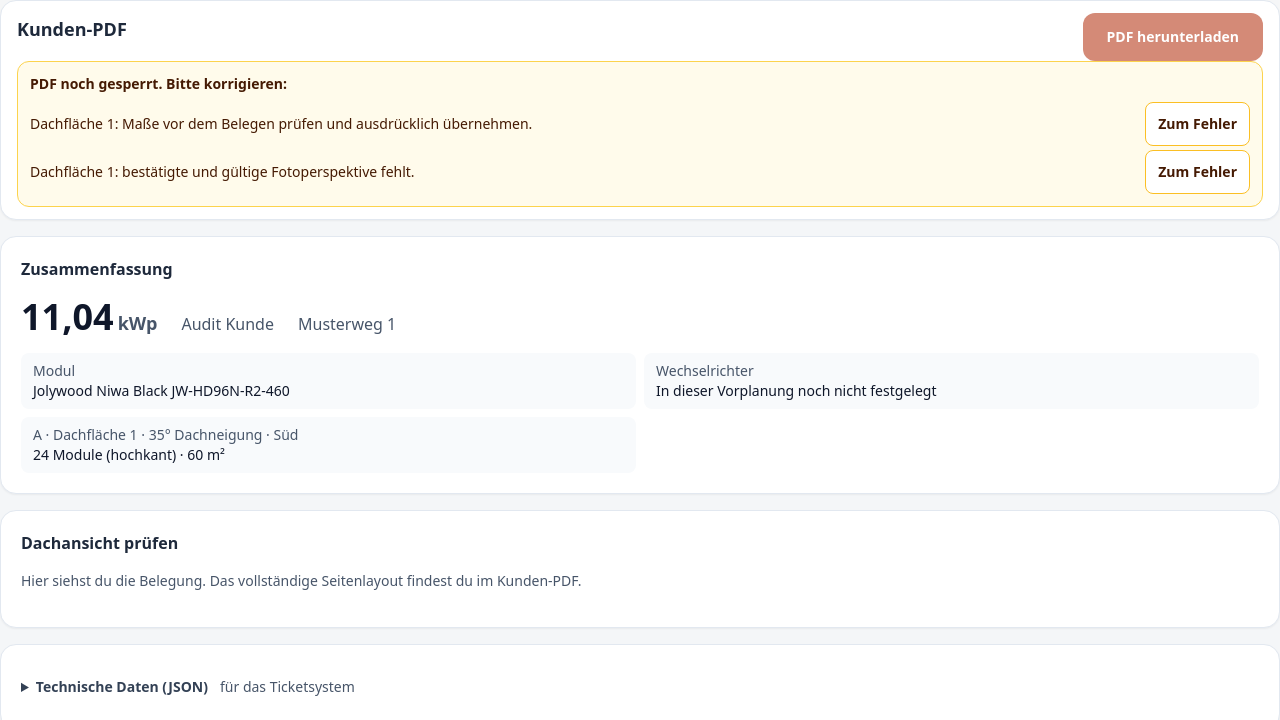
Exportfunktionen › sperrt PDF und JSON bei belegter Fläche ohne kalibriertes Foto
Expected: the button "PDF herunterladen" is disabled, [1082, 13, 1263, 61]
What coordinates should you click on to do the following:
click the heading "Technische Daten (JSON)"
I would click on:
 (195, 686)
Its box is [36, 677, 355, 696].
(page scrolled)
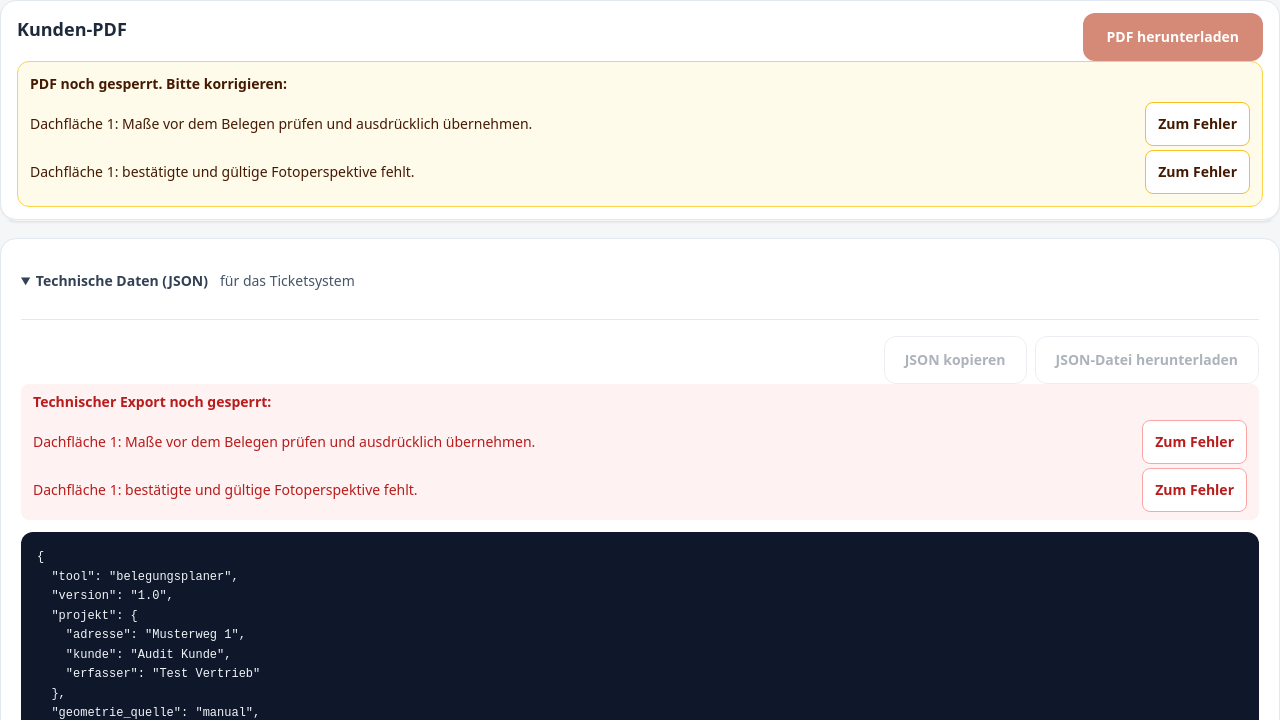
Now the button "JSON kopieren" is disabled, box [884, 336, 1026, 384]
